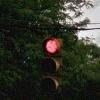traffic lights: (42, 36, 63, 96)
